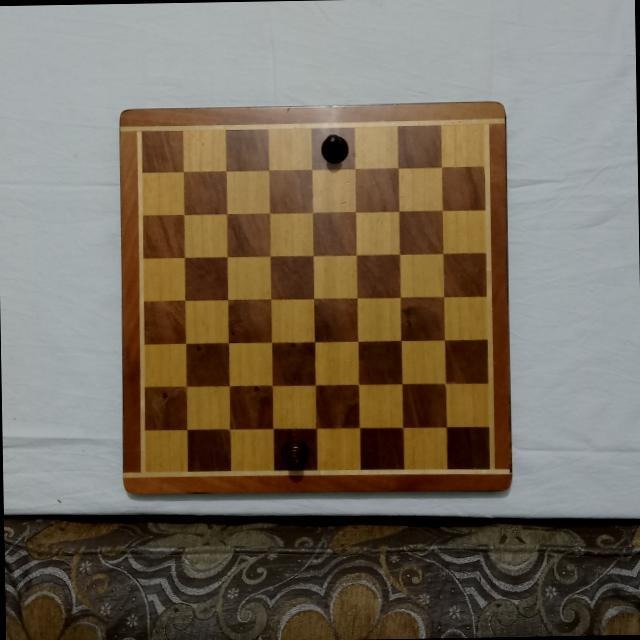black-pawn: (320, 129, 351, 164), (281, 435, 311, 469)
